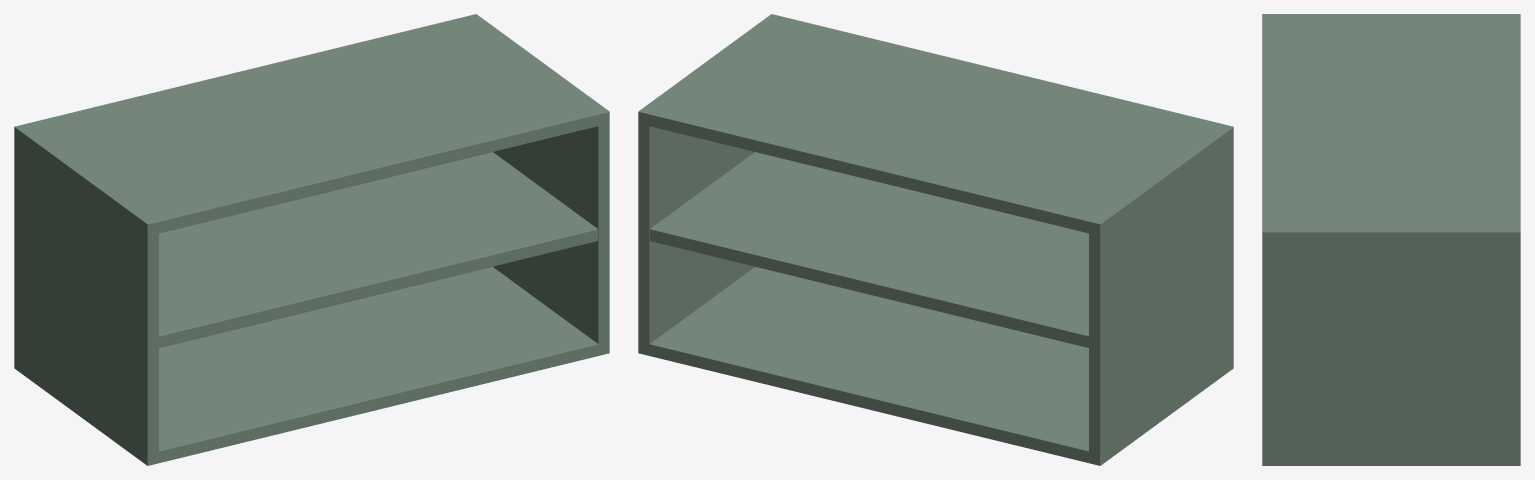
Rendered from MOD_2X1_S_O_VA.glb.
The picture shows the model from 3 angles, left to right: view 1: azimuth 30°, elevation 25°; view 2: azimuth 150°, elevation 25°; view 3: azimuth 270°, elevation 25°; orthographic projection. The views are drawn at different scales.
Bounding box in the file's own units: 720 × 360 × 360.
